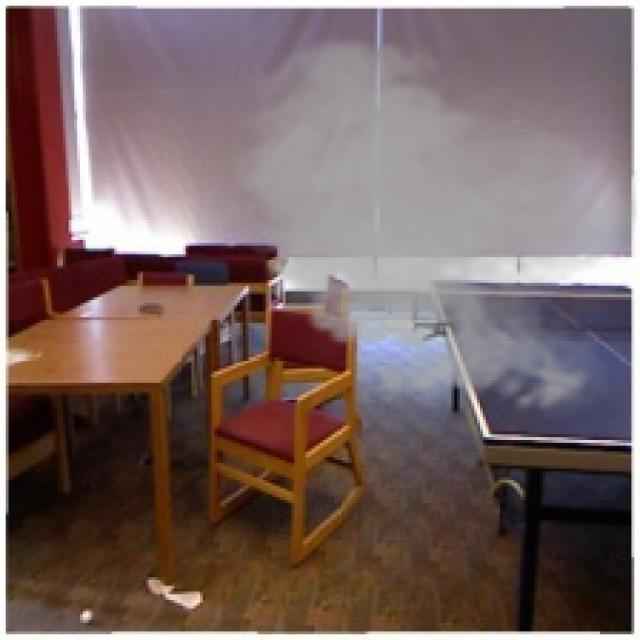Smoke: (217, 28, 637, 423)
